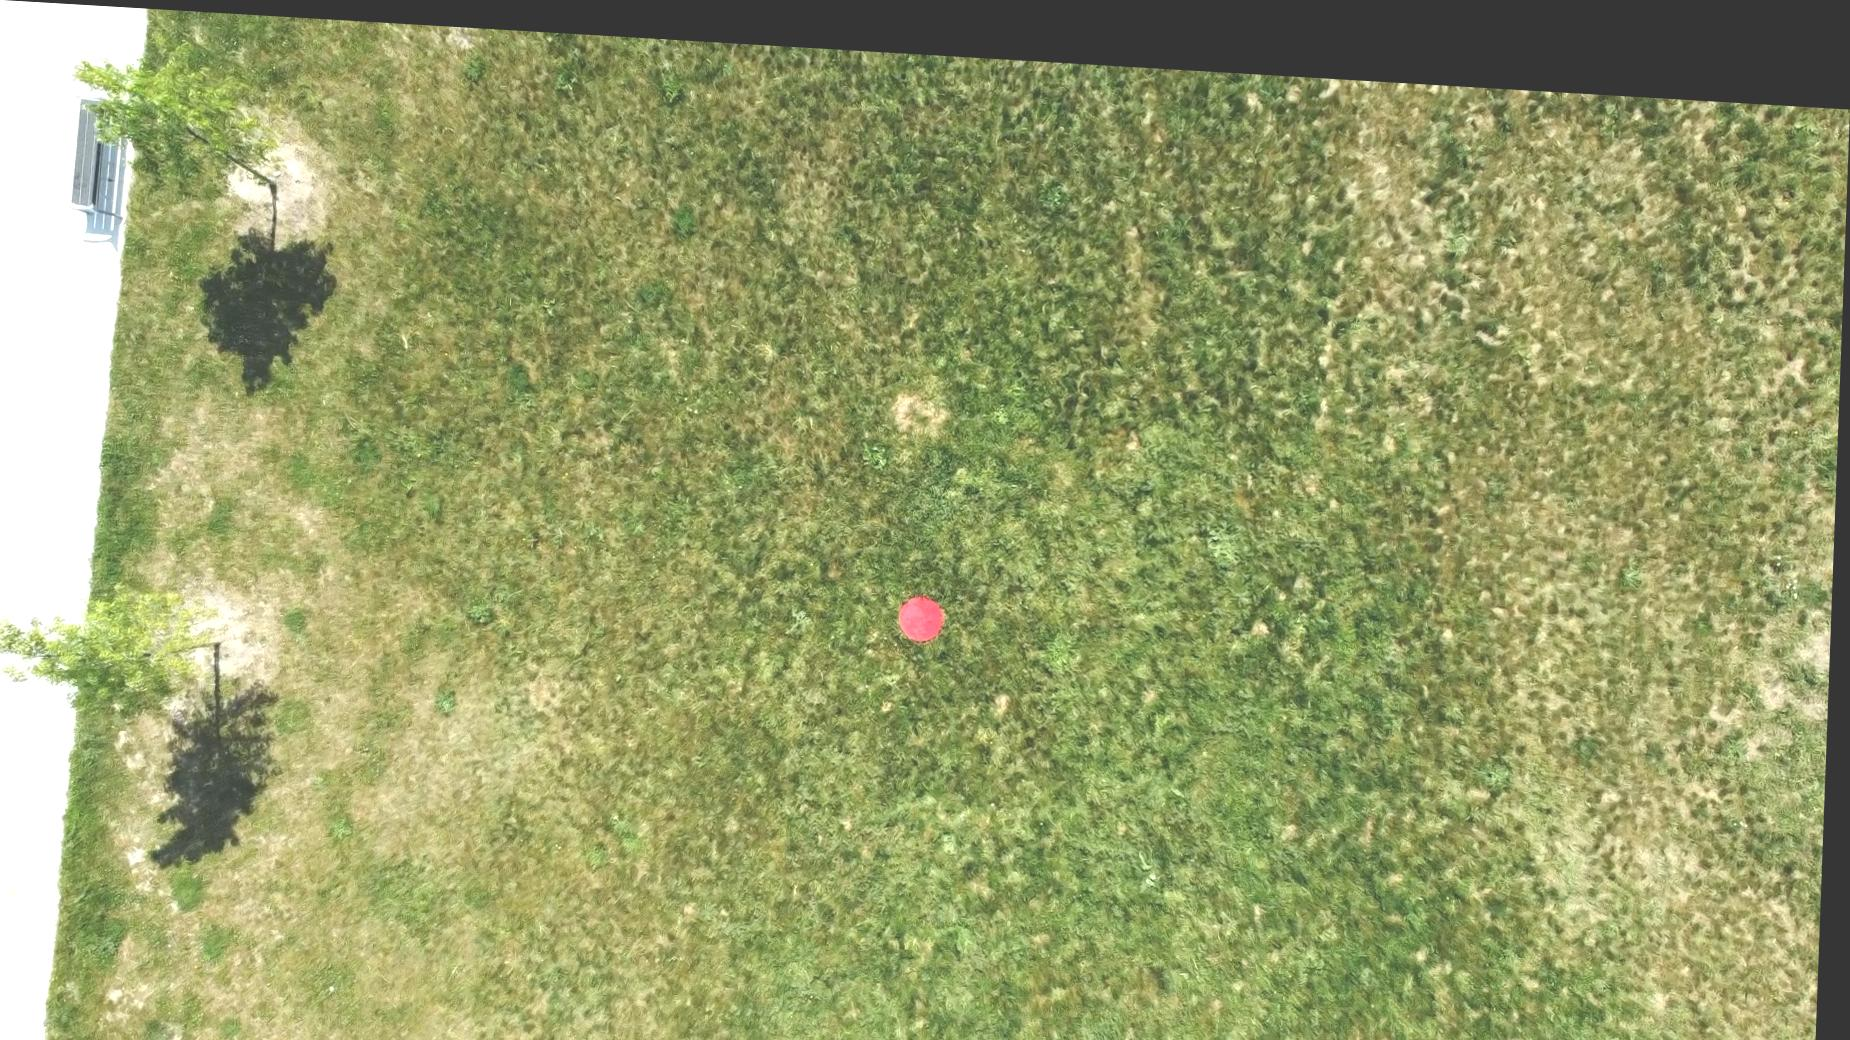Red: (900, 582, 953, 632)
